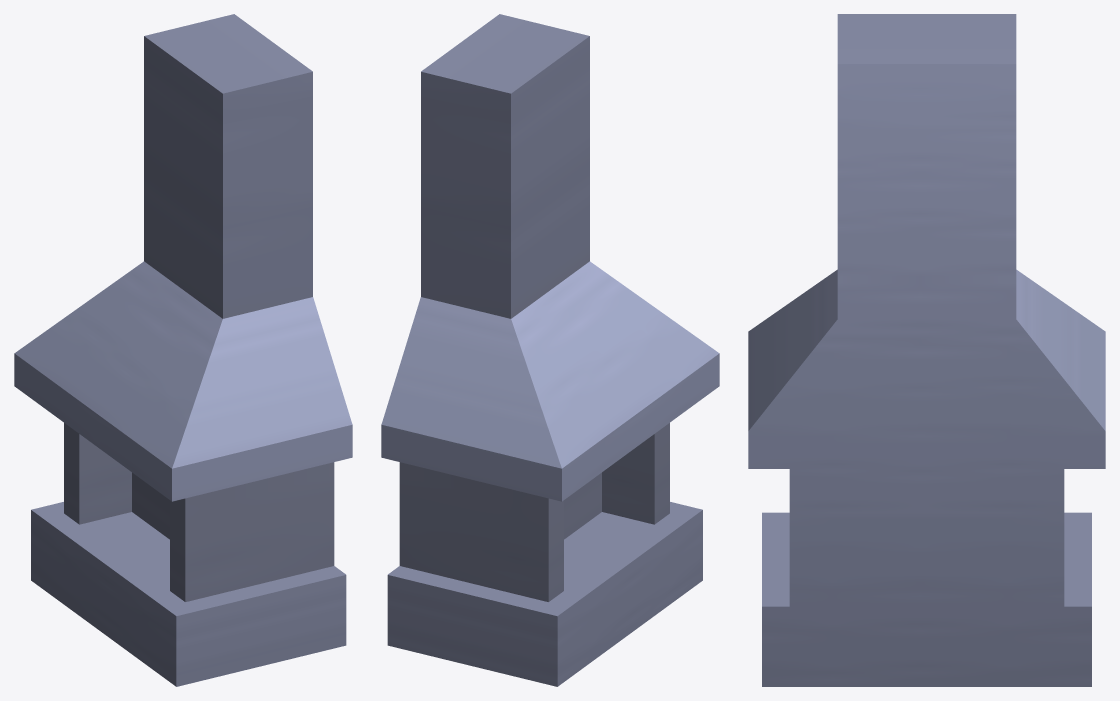
Rendered from chimneyBase.fbx.
3 views of the same model, side by side, from view 1: azimuth 30°, elevation 25°; view 2: azimuth 150°, elevation 25°; view 3: azimuth 270°, elevation 25° (orthographic). The views are drawn at different scales.
Parts seen in each view (by area): view 1: chimneyBase; view 2: chimneyBase; view 3: chimneyBase.
Part boxes in pixels (box(x1,y1,x2,y2)): chimneyBase: box(14, 14, 352, 686); chimneyBase: box(381, 14, 719, 686); chimneyBase: box(748, 14, 1105, 686).
Size of the model in its own units: 0.3438 by 0.52 by 1.
